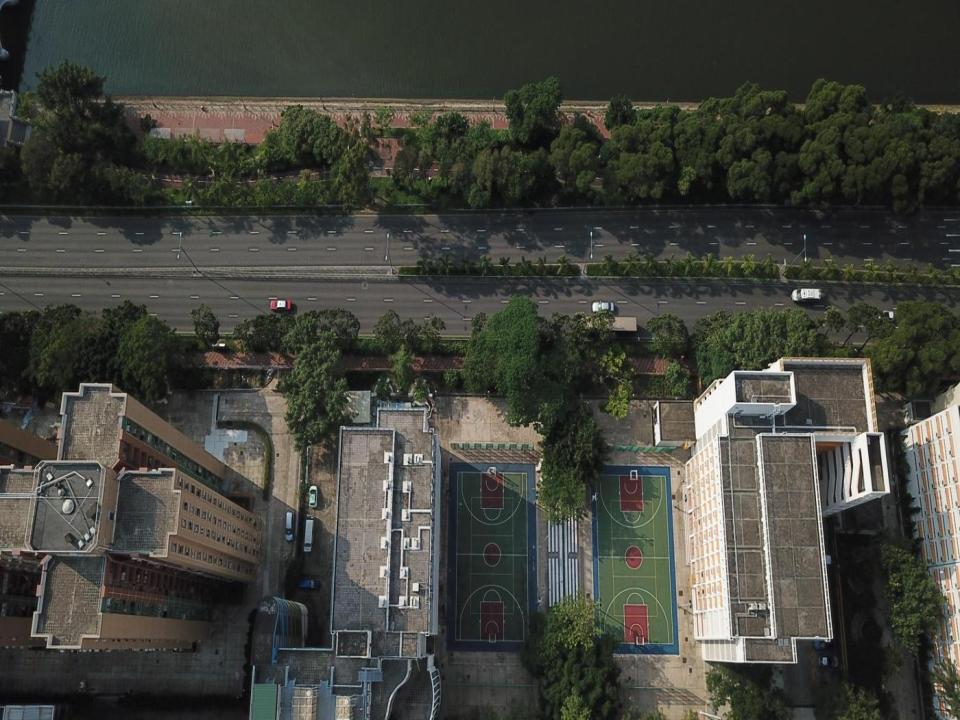bus: (579, 315, 637, 341)
car: (817, 653, 839, 668), (270, 298, 292, 312), (813, 638, 835, 652), (297, 577, 320, 590), (592, 300, 614, 313), (875, 309, 895, 323), (308, 485, 318, 508), (818, 553, 833, 566)
van: (303, 513, 316, 553), (790, 287, 822, 301), (284, 510, 294, 542)
